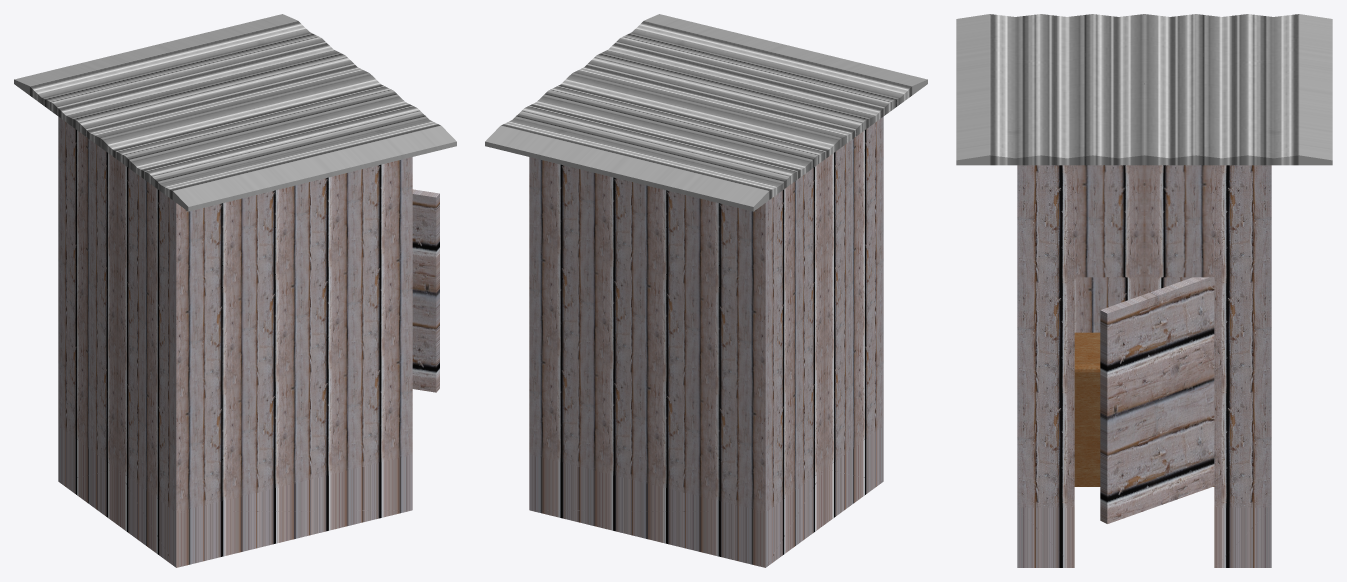
3 views of the same model, side by side, from view 1: azimuth 30°, elevation 25°; view 2: azimuth 150°, elevation 25°; view 3: azimuth 270°, elevation 25° (orthographic). The views are drawn at different scales.
Parts seen in each view (by area): view 1: letrina006_woodboard_0, letrina006_calamina_0, letrina007_woodboard_0; view 2: letrina006_woodboard_0, letrina006_calamina_0; view 3: letrina006_woodboard_0, letrina006_calamina_0, letrina007_woodboard_0, letrina006_Material_0.
Part boxes in pixels (x1,y1,x2,y2): letrina006_woodboard_0: [58, 117, 412, 567]; letrina006_calamina_0: [14, 14, 456, 211]; letrina007_woodboard_0: [412, 189, 439, 392]; letrina006_woodboard_0: [529, 117, 883, 567]; letrina006_calamina_0: [485, 14, 927, 211]; letrina006_woodboard_0: [1017, 165, 1271, 567]; letrina006_calamina_0: [956, 14, 1332, 165]; letrina007_woodboard_0: [1100, 277, 1214, 523]; letrina006_Material_0: [1074, 332, 1214, 486].
Bounding box in the file's own units: 3.62 × 4.2 × 3.4.
Materials: 3 (3 with a texture image).
